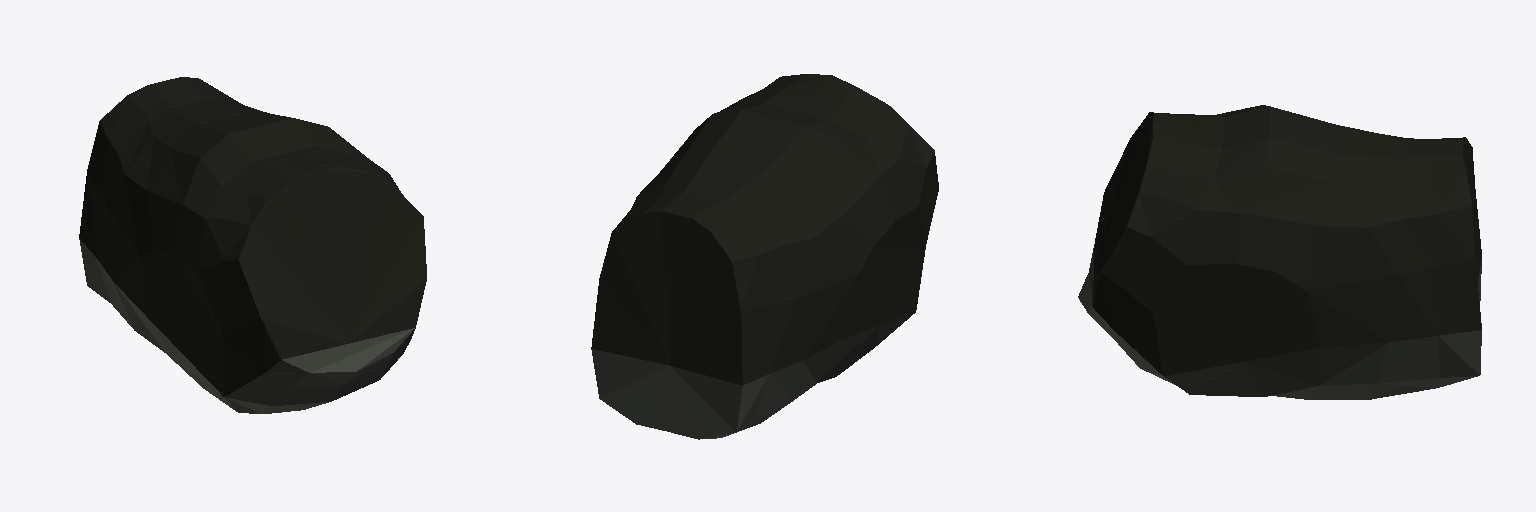
Rendered from 01_body_front.obj.
The picture shows the model from 3 angles: view 1: azimuth 30°, elevation 25°; view 2: azimuth 150°, elevation 25°; view 3: azimuth 270°, elevation 25°; orthographic projection.
Parts seen in each view (by area): view 1: polySurface21 WolfMesh; view 2: polySurface21 WolfMesh; view 3: polySurface21 WolfMesh.
Boxes of the visible parts, box(x1,y1,x2,y2) form: polySurface21 WolfMesh: box(79, 77, 426, 413); polySurface21 WolfMesh: box(591, 74, 938, 439); polySurface21 WolfMesh: box(1078, 105, 1481, 399).
Bounding box in the file's own units: 0.8864 × 1.08 × 1.48.